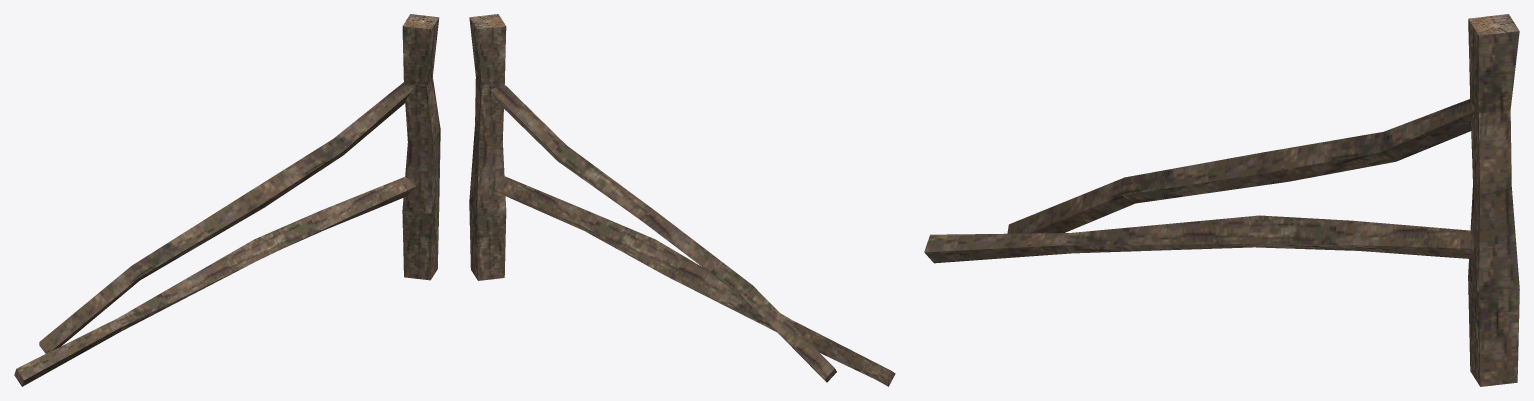
File: Urban_WoodenFenceBroken_Model.fbx
3 views of the same model, side by side, from view 1: azimuth 30°, elevation 25°; view 2: azimuth 150°, elevation 25°; view 3: azimuth 330°, elevation 25° (orthographic). The views are drawn at different scales.
Visible parts, largest first — view 1: Urban_WoodenFenceBroken_Mesh; view 2: Urban_WoodenFenceBroken_Mesh; view 3: Urban_WoodenFenceBroken_Mesh.
Boxes of the visible parts, x1,y1,x2,y2 form: Urban_WoodenFenceBroken_Mesh: [14, 14, 440, 386]; Urban_WoodenFenceBroken_Mesh: [469, 14, 895, 386]; Urban_WoodenFenceBroken_Mesh: [924, 14, 1519, 386].
Bounding box in the file's own units: 2.11 × 1.27 × 0.2924.
